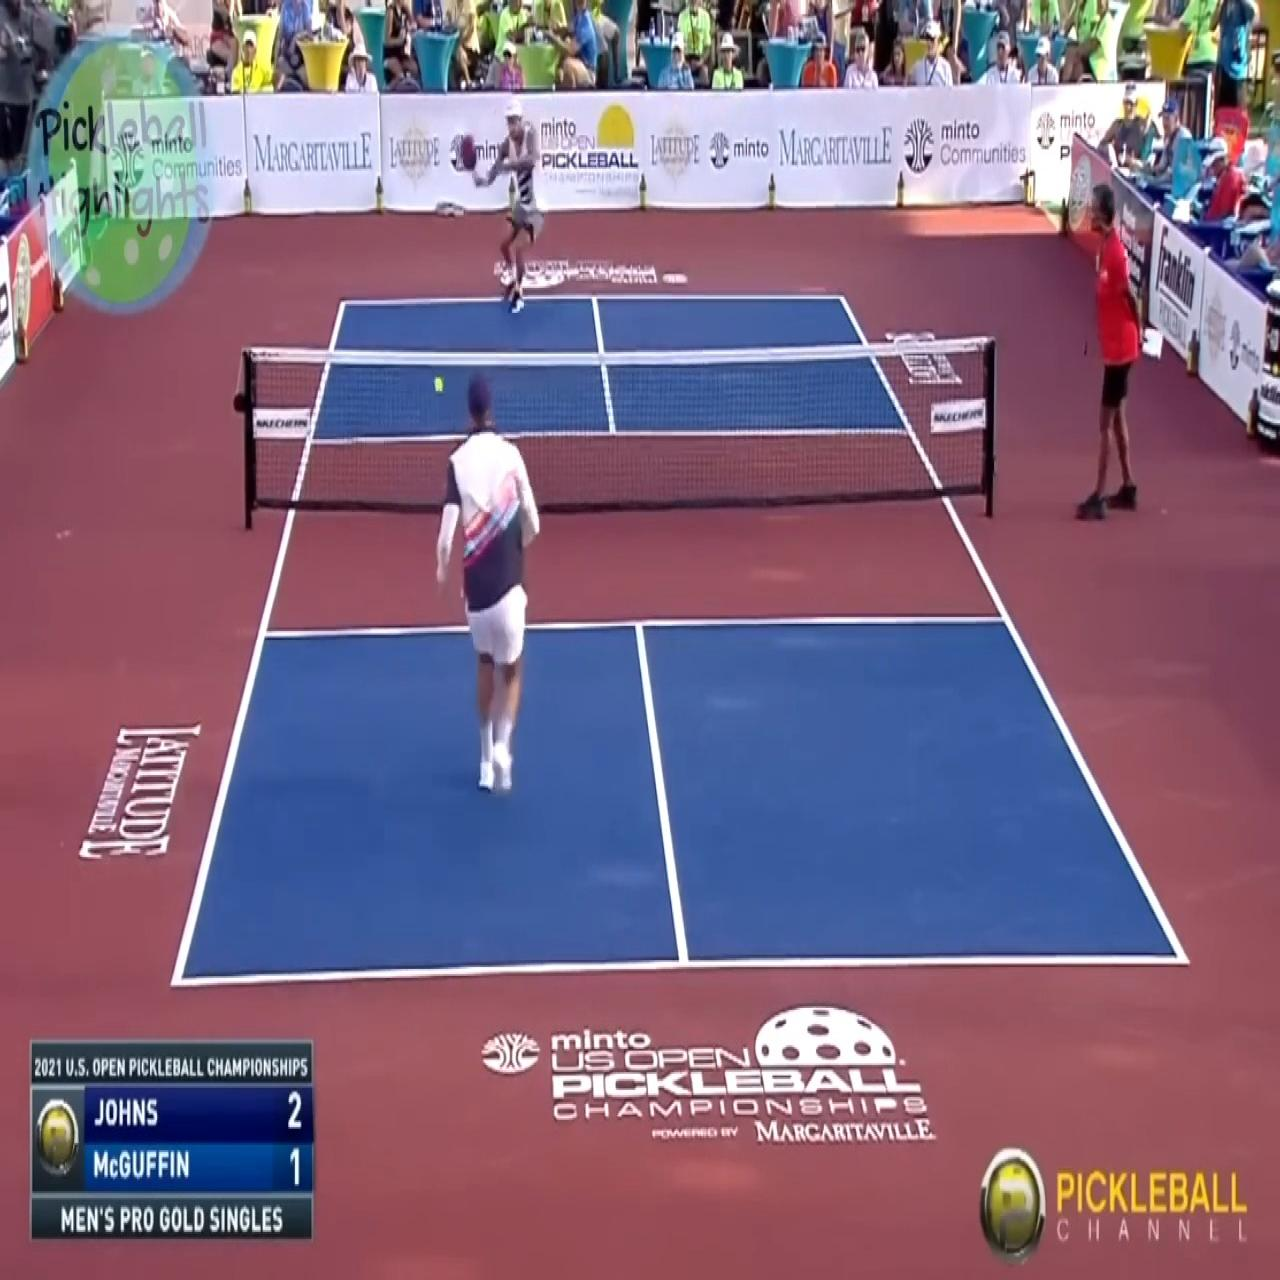pickleball: (434, 375, 444, 393)
